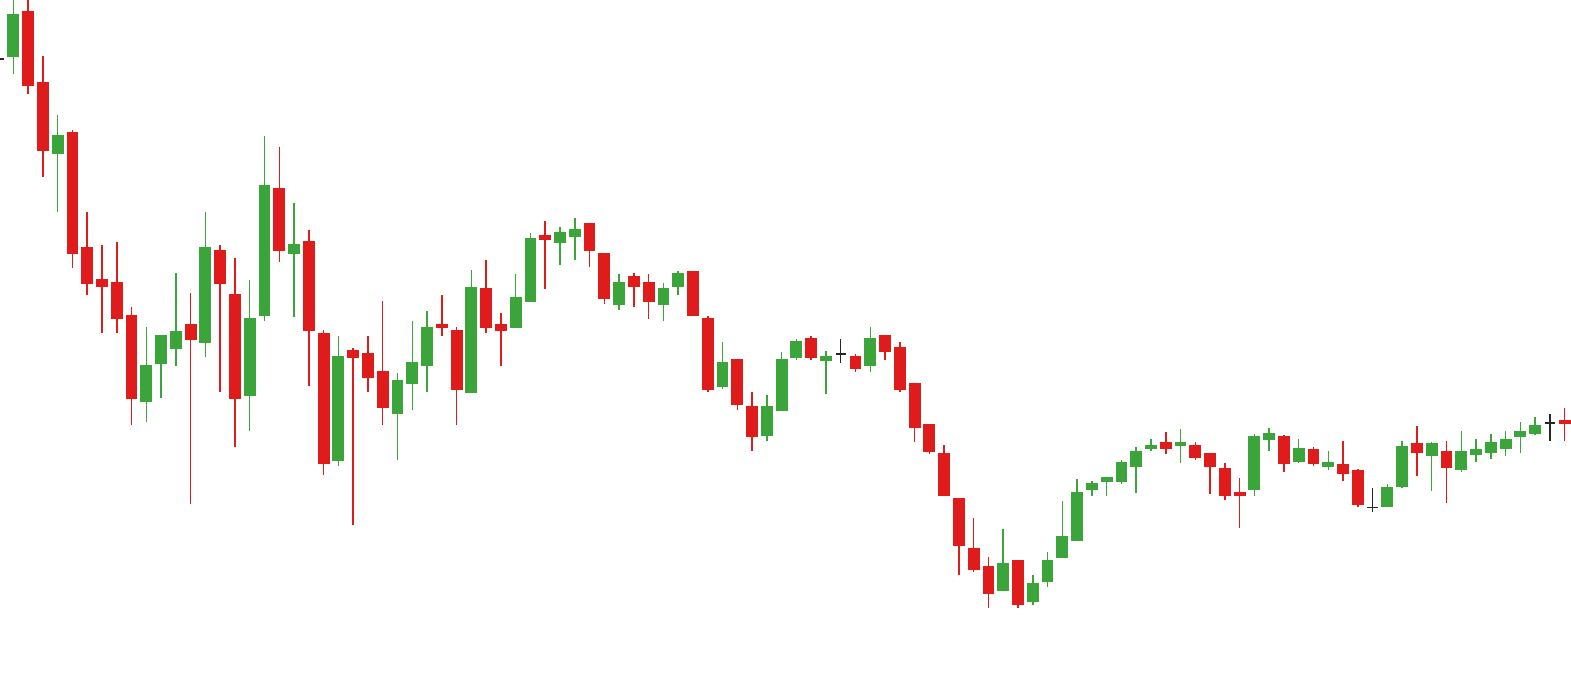sell: (196, 132, 285, 329)
